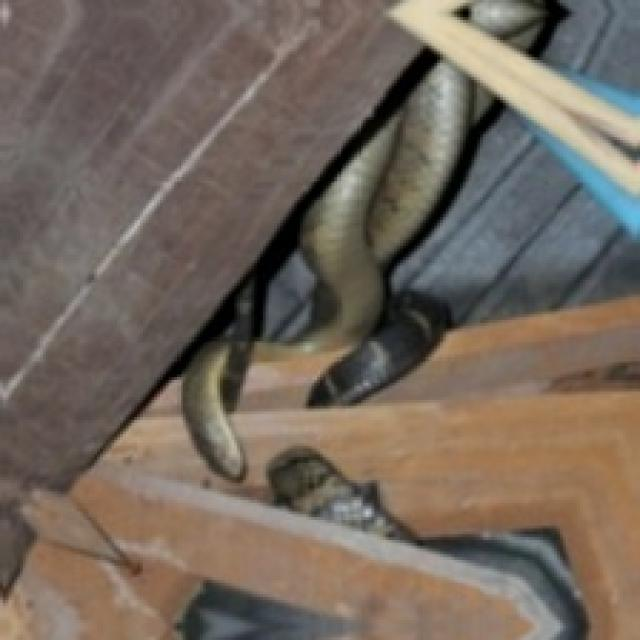king cobra: (283, 51, 497, 403), (183, 280, 257, 480)
